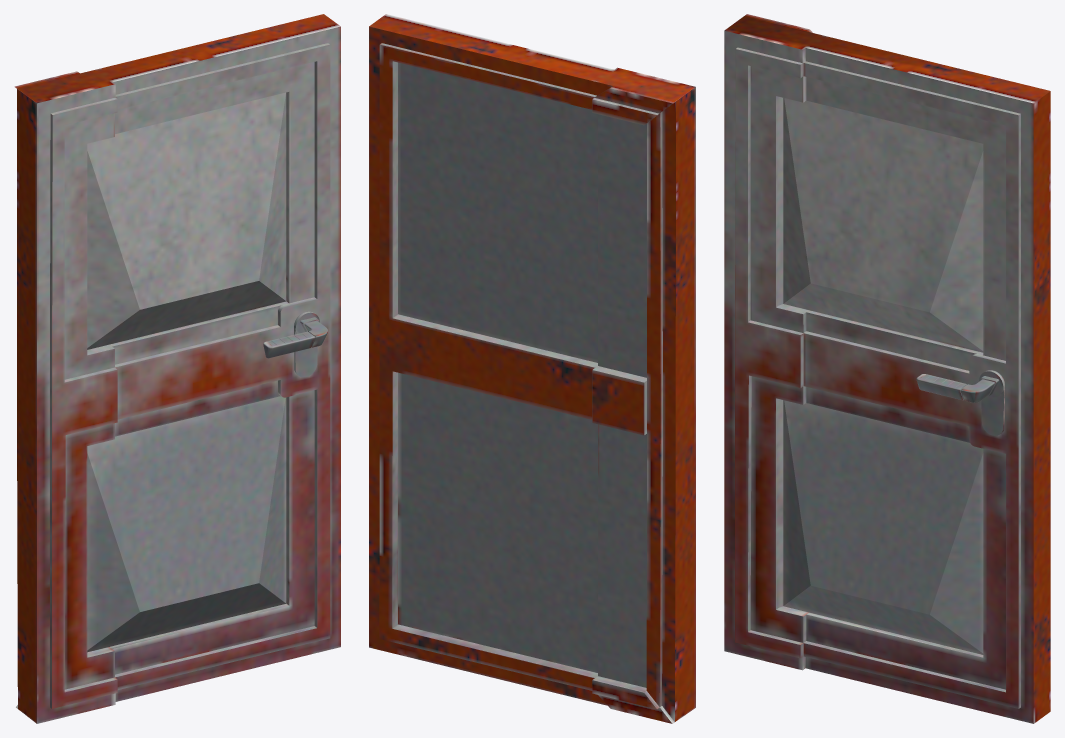
File: door.fbx
3 renders of one model, left to right at view 1: azimuth 30°, elevation 25°; view 2: azimuth 150°, elevation 25°; view 3: azimuth 330°, elevation 25°, orthographic.
Parts seen in each view (by area): view 1: Cube.009; view 2: Cube.009; view 3: Cube.009.
Part boxes in pixels (<box>): Cube.009: <box>14,14,340,723</box>; Cube.009: <box>369,14,695,723</box>; Cube.009: <box>724,14,1050,723</box>.
Size of the model in its own units: 299 by 578 by 77.35.
